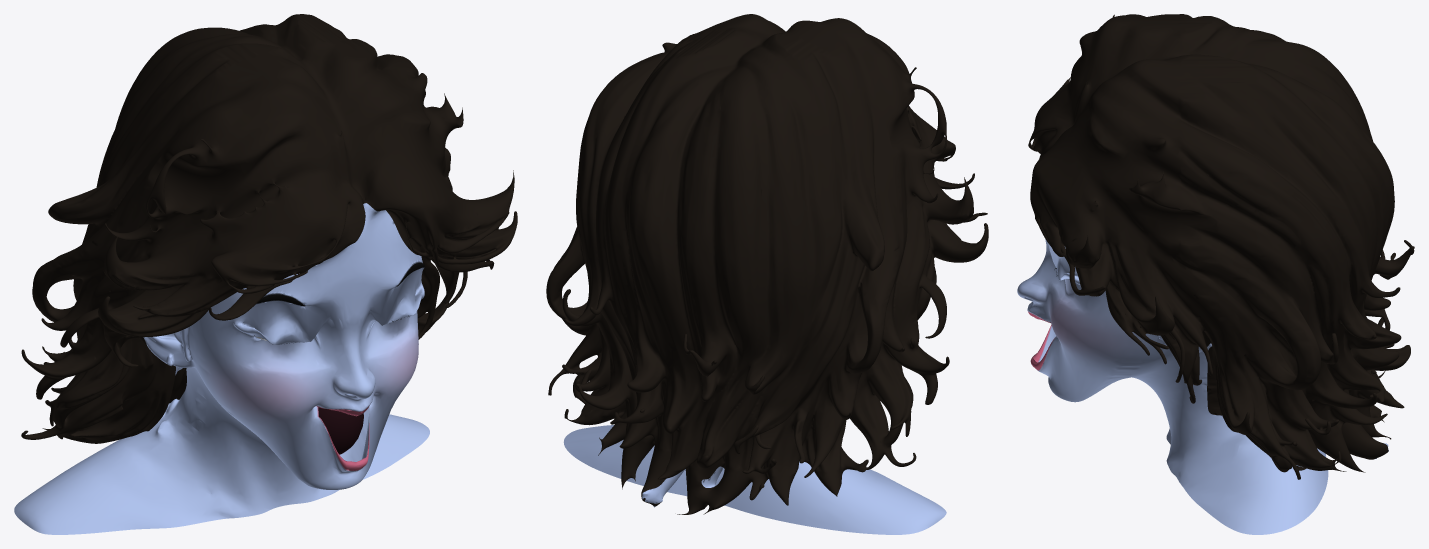
File: krishna-fast-386a83a0539c.glb
The picture shows the model from 3 angles, left to right: view 1: azimuth 30°, elevation 25°; view 2: azimuth 150°, elevation 25°; view 3: azimuth 270°, elevation 25°; orthographic projection. The views are drawn at different scales.
Visible parts, largest first — view 1: Krishna hair, Krishna_face, Krishna_mouth_interior; view 2: Krishna hair, Krishna_face; view 3: Krishna hair, Krishna_face.
Boxes of the visible parts, x1,y1,x2,y2 form: Krishna hair: [21, 14, 517, 443]; Krishna_face: [14, 203, 429, 534]; Krishna_mouth_interior: [318, 407, 363, 454]; Krishna hair: [546, 14, 988, 514]; Krishna_face: [563, 425, 946, 534]; Krishna hair: [1028, 14, 1414, 479]; Krishna_face: [1017, 239, 1388, 534].
Bounding box in the file's own units: 0.6225 × 0.6097 × 0.5265.
Materials: 11 (6 with a texture image).
